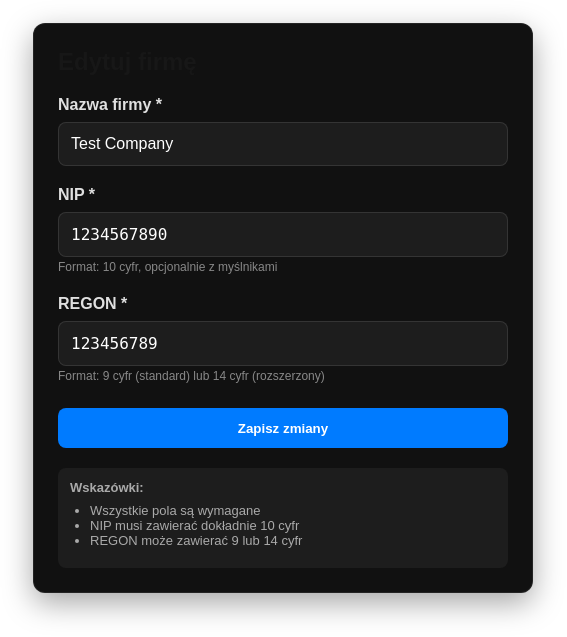
Test: EditCompanyForm › Aktualizacja firmy › powinien pomyślnie zaktualizować firmę
Step 1. Replace the text in the field labelled "Nazwa firmy *" with "Updated Company Name" → (283, 144), box x1=58 y1=122 x2=508 y2=166
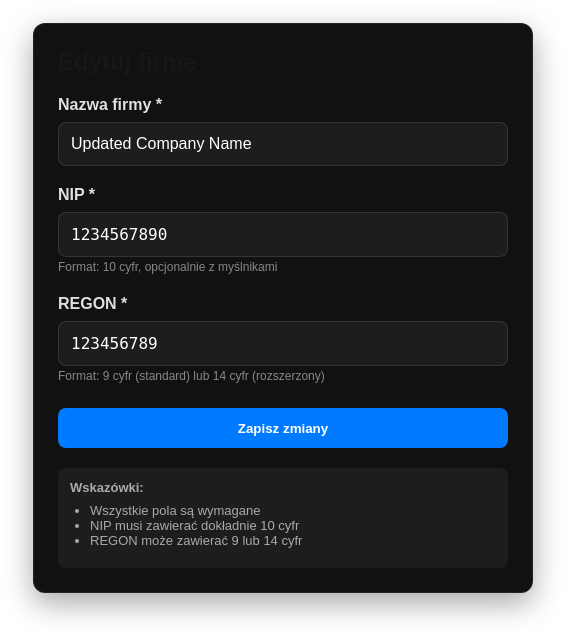
Step 2. Click the button "Zapisz zmiany" → (283, 428), box x1=58 y1=408 x2=508 y2=448
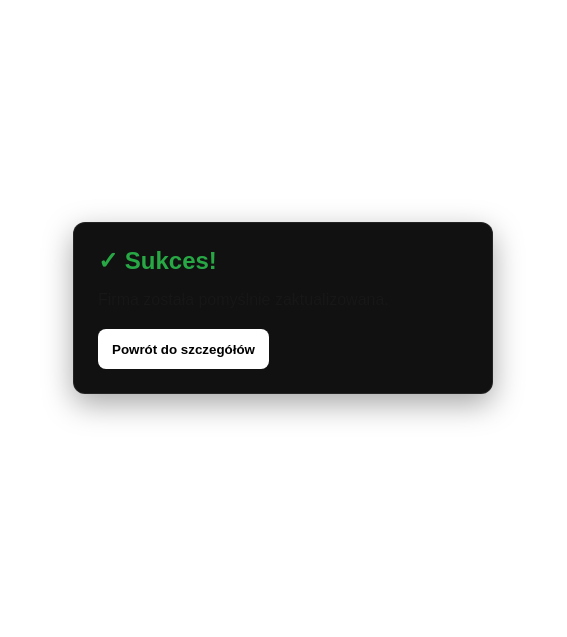
Result: the heading "✓ Sukces!" is shown at x1=98 y1=247 x2=217 y2=274
